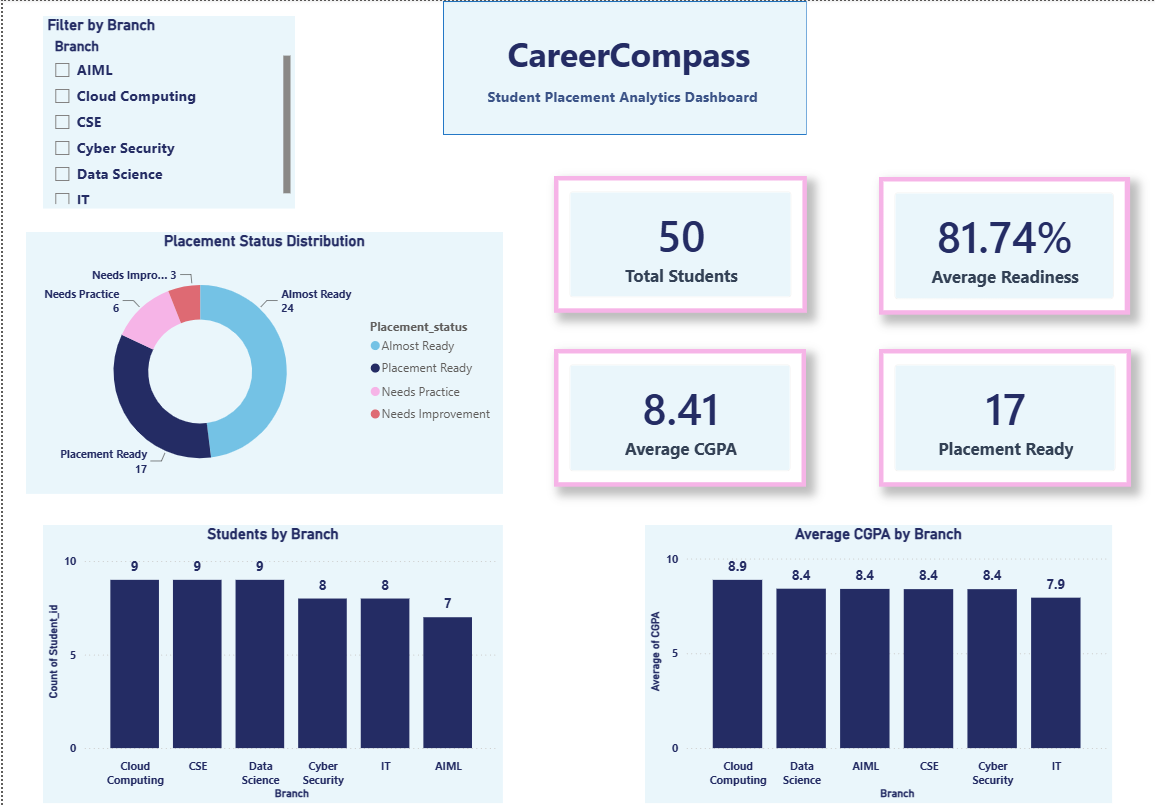

What the dashboard file says about the page in this screenshot:
{"tool":"powerbi","page":{"name":"Student Overview","canvas":[1280,900],"ordinal":0},"visuals":[{"type":"shape","box":[488.9,0,404.4,148.9],"z":0},{"type":"cardVisual","fields":{"Data":["CountNonNull(career_compass students.Student_id)"]},"box":[612.2,194.4,281.1,152.2],"z":1000},{"type":"cardVisual","fields":{"Data":["Avg(career_compass students.CGPA)"]},"box":[612.2,386.7,280,153.3],"z":2000},{"type":"cardVisual","fields":{"Data":["career_compass company_applications.Average Readiness %"]},"box":[973.3,195.6,278.9,153.3],"z":3000},{"type":"cardVisual","fields":{"Data":["CountNonNull(career_compass placement_readiness.Readiness_id)"]},"box":[973.3,386.7,280,153.3],"z":4000},{"type":"textbox","box":[555.6,28.3,362.6,144.4],"z":5000},{"type":"textbox","box":[533.3,89.9,316.2,105.1],"z":6000},{"type":"clusteredColumnChart","title":"Students by Branch","fields":{"Category":["career_compass students.Branch"],"Y":["CountNonNull(career_compass students.Student_id)"]},"box":[44.4,582.2,511.1,308.9],"z":7000},{"type":"clusteredColumnChart","title":"Average CGPA by Branch","fields":{"Category":["career_compass students.Branch"],"Y":["Avg(career_compass students.CGPA)"]},"box":[713.3,582.2,518.9,308.9],"z":8000},{"type":"donutChart","title":"Placement Status Distribution","fields":{"Category":["career_compass placement_readiness.Placement_status"],"Y":["CountNonNull(career_compass placement_readiness.Readiness_id)"]},"box":[25.6,256.7,530,291.1],"z":9000},{"type":"slicer","title":"Filter by Branch","fields":{"Values":["career_compass students.Branch"]},"box":[44.4,16.7,280,214.4],"z":10000}]}

Visuals, with their boxes in screenshot pixels (x1, y1, x2, y2), scaled from the page's 1280x900 canvas onto the 1155x807 screenshot:
shape: box=[441, 0, 806, 134]
cardVisual - CountNonNull(career_compass students.Student_id): box=[552, 174, 806, 311]
cardVisual - Avg(career_compass students.CGPA): box=[552, 347, 805, 484]
cardVisual - career_compass company_applications.Average Readiness %: box=[878, 175, 1130, 313]
cardVisual - CountNonNull(career_compass placement_readiness.Readiness_id): box=[878, 347, 1131, 484]
textbox: box=[501, 25, 829, 155]
textbox: box=[481, 81, 767, 175]
"Students by Branch" clusteredColumnChart: box=[40, 522, 501, 799]
"Average CGPA by Branch" clusteredColumnChart: box=[644, 522, 1112, 799]
"Placement Status Distribution" donutChart: box=[23, 230, 501, 491]
"Filter by Branch" slicer: box=[40, 15, 293, 207]
